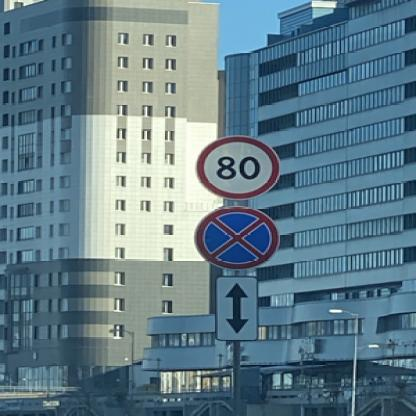Speed Limit 80: (194, 134, 282, 200)
